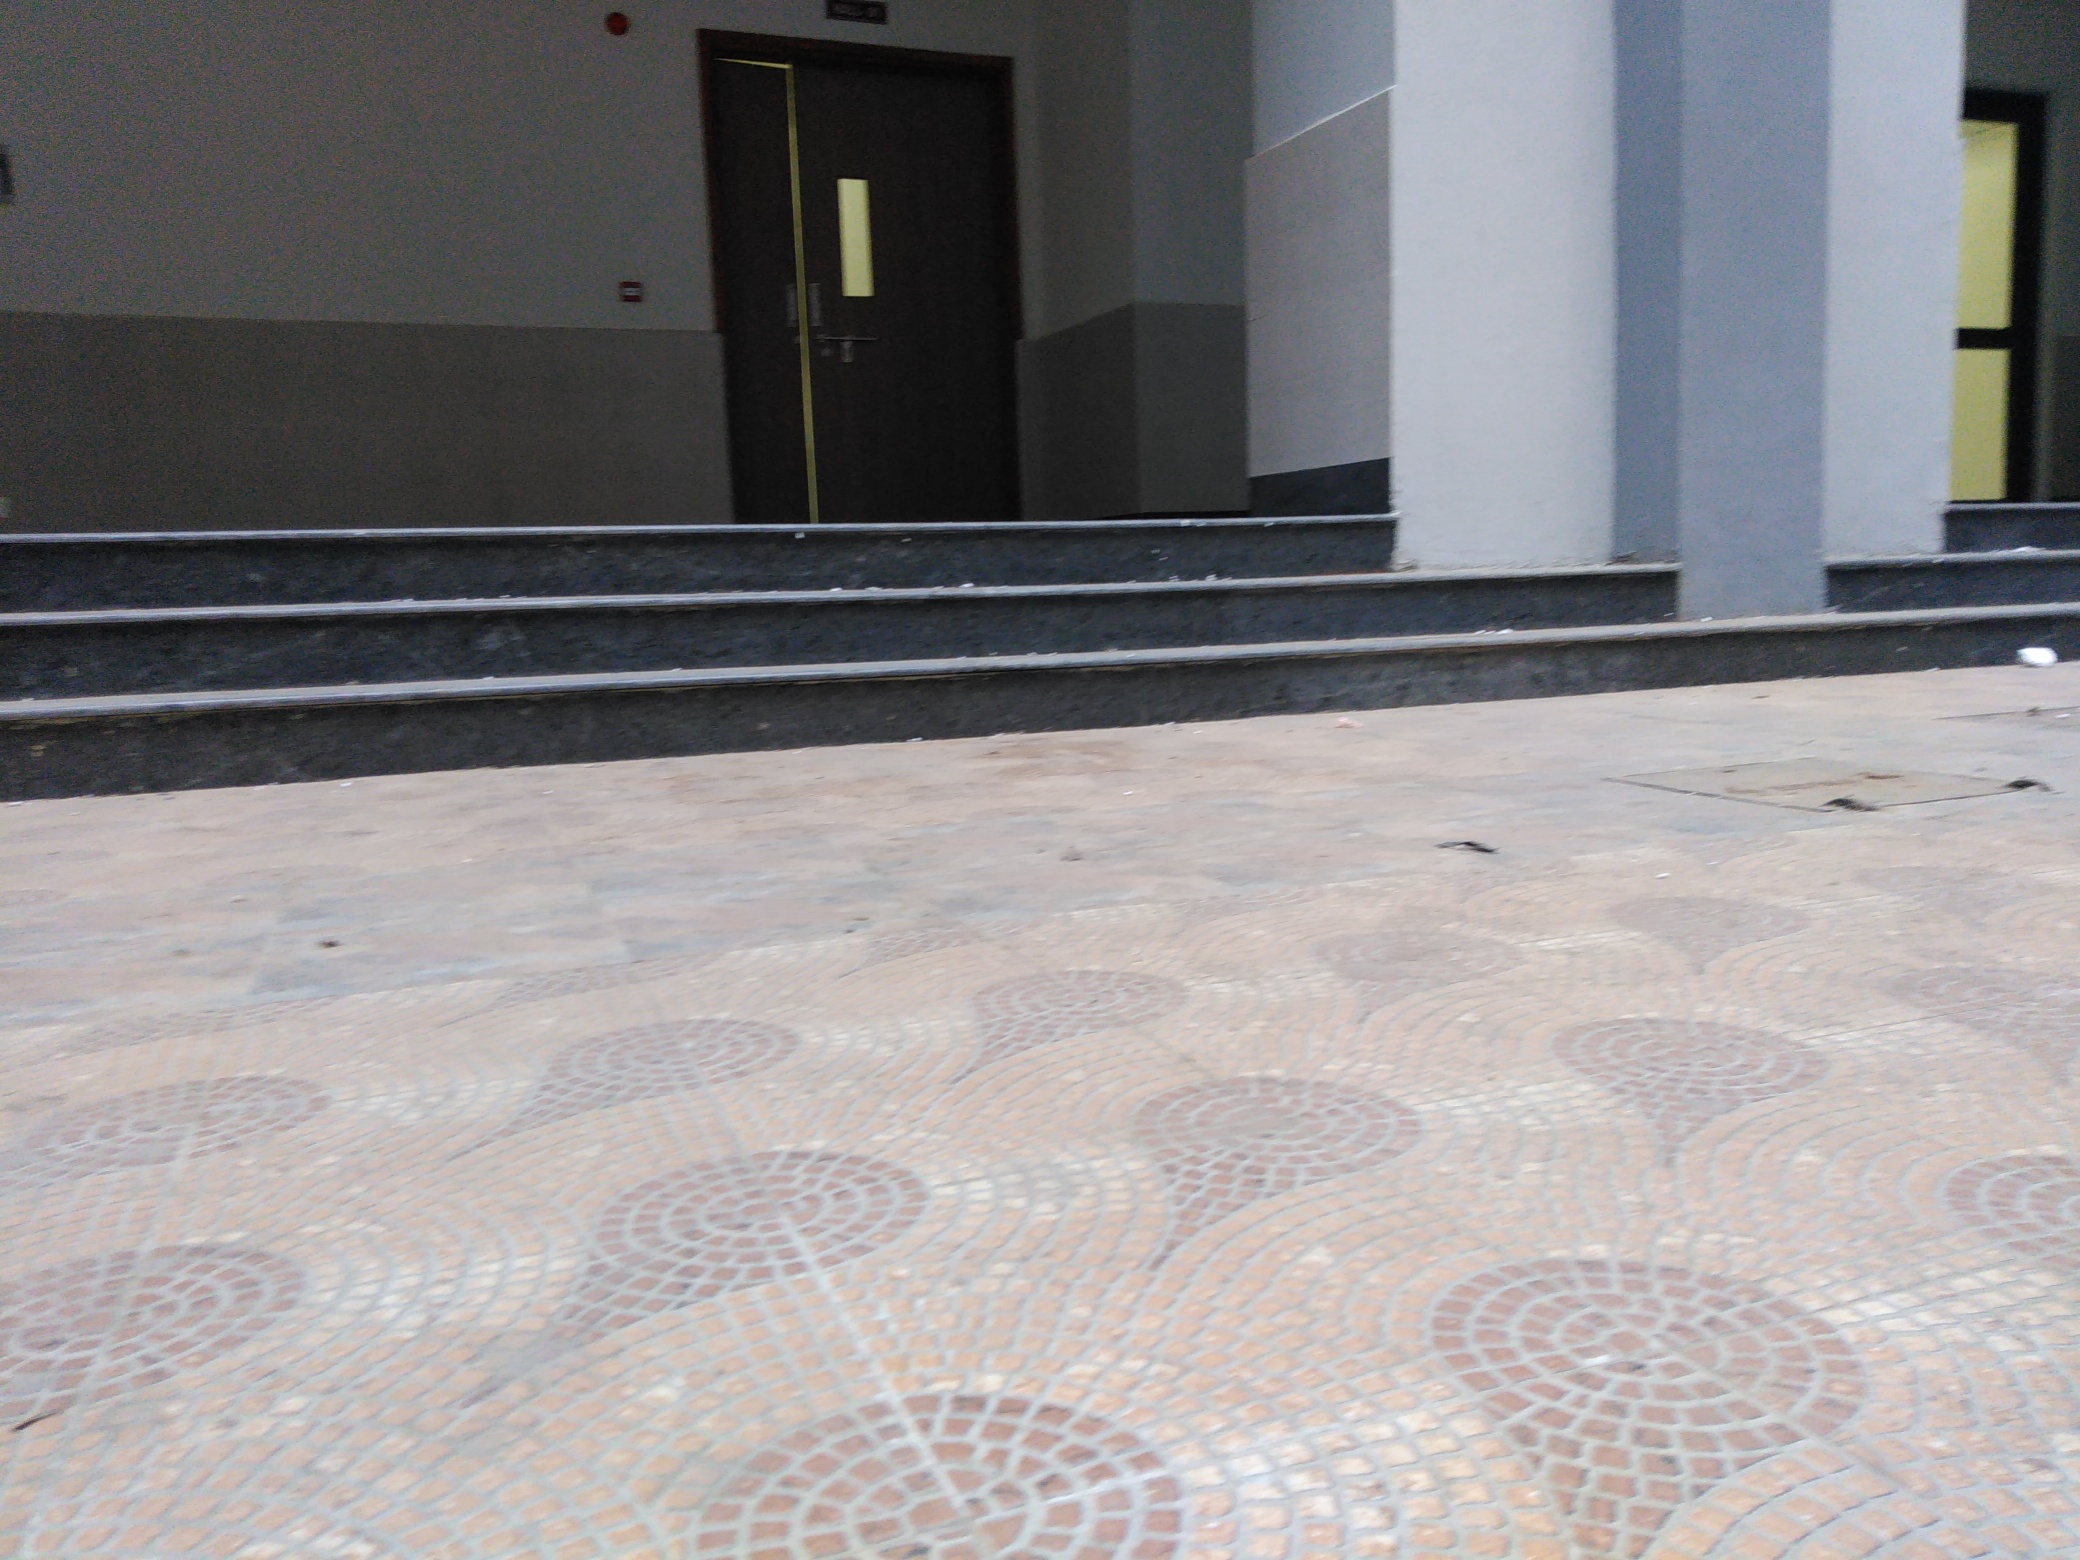stairs_up: (10, 518, 1689, 729), (1847, 472, 2080, 675)
